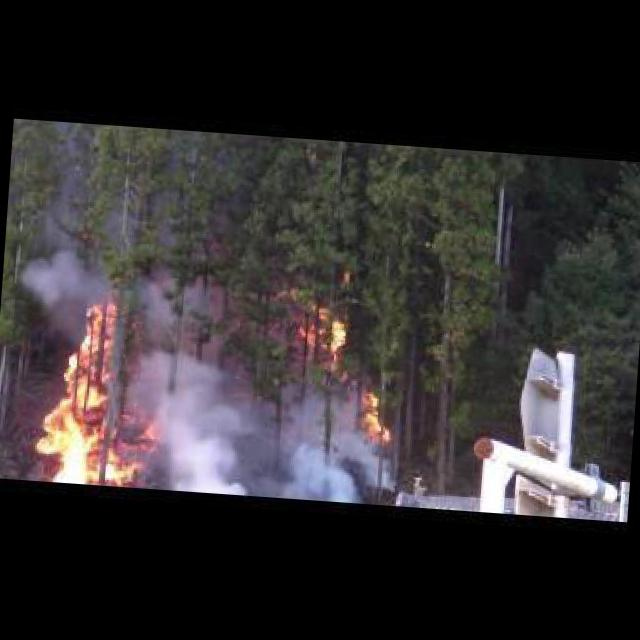Fire: (26, 290, 165, 487), (292, 306, 340, 372), (356, 389, 391, 441)
Smoke: (138, 280, 406, 508), (15, 242, 90, 332)
